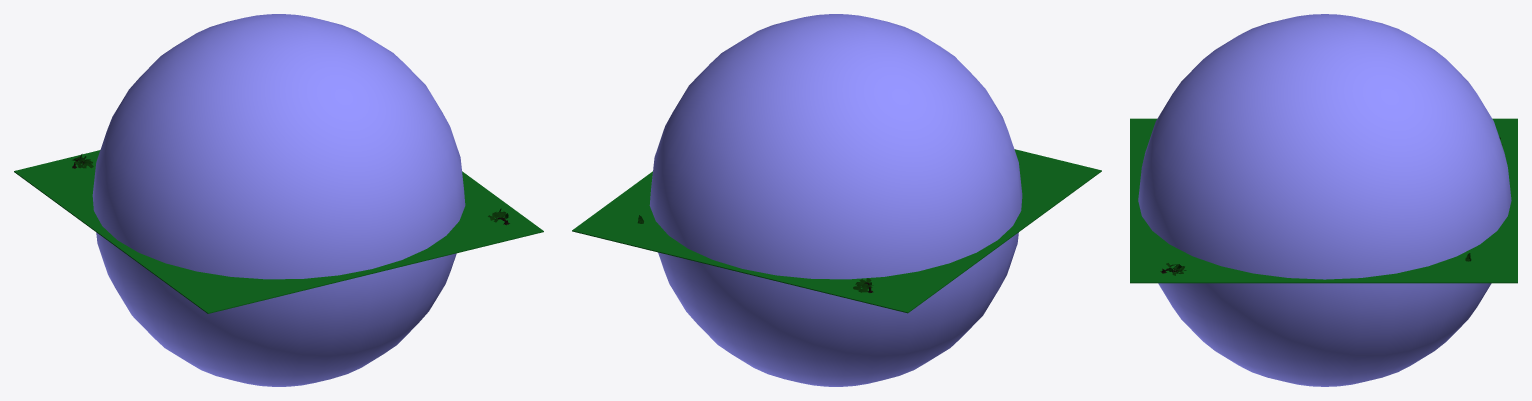
The model's file is encoreuntest2.DAE.
3 views of the same model, side by side, from view 1: azimuth 30°, elevation 25°; view 2: azimuth 150°, elevation 25°; view 3: azimuth 270°, elevation 25° (orthographic).
Visible parts, largest first — view 1: Sphère001, Polygone001; view 2: Sphère001, Polygone001; view 3: Sphère001, Polygone001.
Part boxes in pixels (x1=…): Sphère001: x1=92, y1=14, x2=465, y2=386; Polygone001: x1=14, y1=150, x2=543, y2=313; Sphère001: x1=649, y1=14, x2=1022, y2=386; Polygone001: x1=572, y1=149, x2=1101, y2=313; Sphère001: x1=1138, y1=14, x2=1511, y2=386; Polygone001: x1=1130, y1=118, x2=1517, y2=283.
Size of the model in its own units: 180 by 173 by 180.
